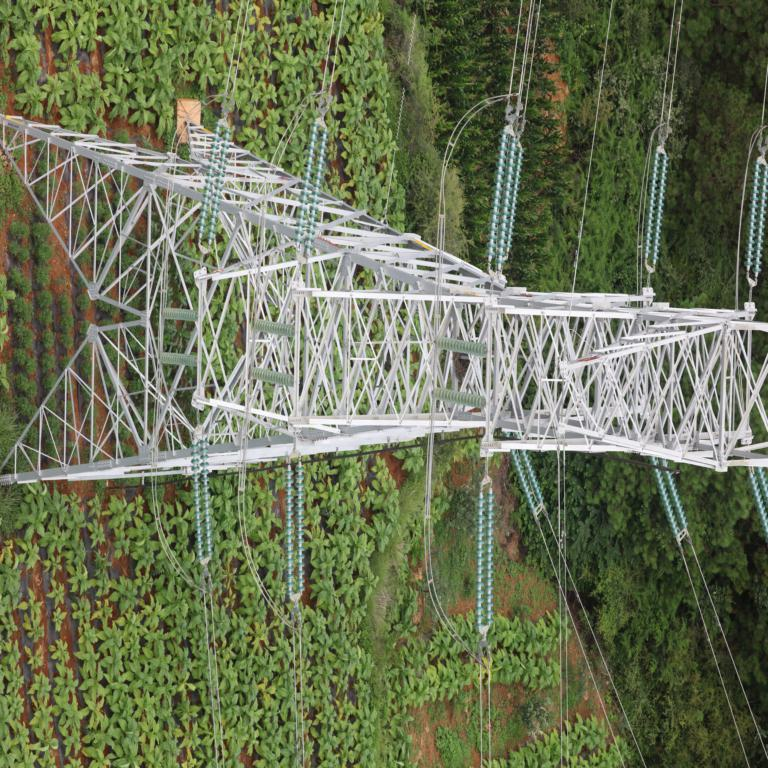nest: (357, 264, 363, 280)
